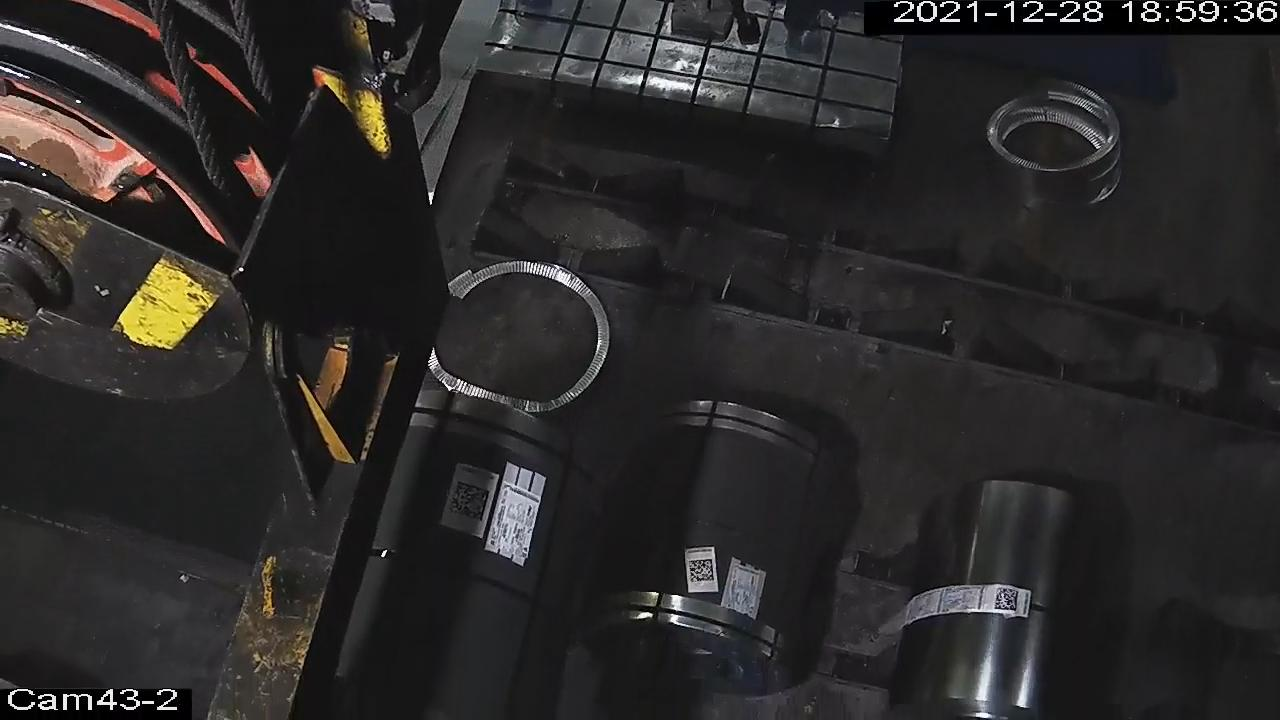data matrix: (446, 479, 494, 525), (993, 586, 1022, 616), (687, 558, 718, 586)
